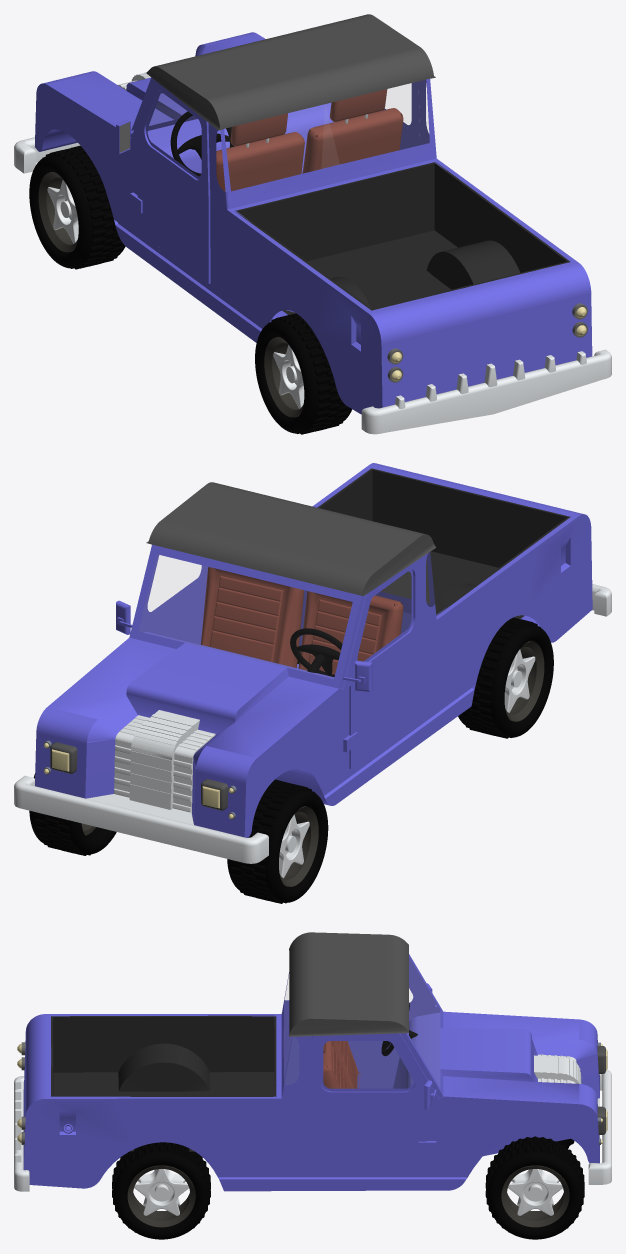
The model's file is truck.glb.
3 views of the same model, one above another, from view 1: azimuth 30°, elevation 25°; view 2: azimuth 150°, elevation 25°; view 3: azimuth 270°, elevation 25° (orthographic). The views are drawn at different scales.
Visible parts, largest first — view 1: Cube_4, back, sagf, Extrude_3, Cube_2_2, sewpar_back, Tube_1_2, Tube_1, Cloner_2_2, Cube_3_2, Cloner_2, glass (+7 smaller); view 2: Cube_4, sagf, back, Cube_2_2, Extrude_3, sewpar_front, Tube_1_2, motor, Cylinder_5, Tube_1, Cloner_2_2, glass (+9 smaller); view 3: Cube_4, back, Extrude_3, sagf, Tube_1_2, Tube_1, Extrude_2, Extrude, Cloner_2_2, Cube_2_2, Tube_2, Tube (+6 smaller).
Part boxes in pixels (<box>): Cube_4: <box>35,32,592,414</box>; back: <box>235,162,570,314</box>; sagf: <box>146,14,435,130</box>; Extrude_3: <box>130,79,419,283</box>; Cube_2_2: <box>216,108,403,191</box>; sewpar_back: <box>361,349,611,434</box>; Tube_1_2: <box>29,153,125,268</box>; Tube_1: <box>255,319,352,433</box>; Cloner_2_2: <box>42,145,123,269</box>; Cube_3_2: <box>230,89,387,146</box>; Cloner_2: <box>268,313,350,434</box>; glass: <box>149,84,428,167</box>; Cube_4: <box>35,463,592,837</box>; sagf: <box>146,482,435,595</box>; back: <box>299,468,570,652</box>; Cube_2_2: <box>200,567,403,674</box>; Extrude_3: <box>138,554,422,768</box>; sewpar_front: <box>14,775,268,863</box>; Tube_1_2: <box>29,773,328,902</box>; motor: <box>129,710,199,809</box>; Cylinder_5: <box>86,715,215,824</box>; Tube_1: <box>297,624,553,737</box>; Cloner_2_2: <box>34,779,314,903</box>; glass: <box>148,555,429,611</box>; Cube_4: <box>23,954,599,1191</box>; back: <box>51,1015,276,1151</box>; Extrude_3: <box>309,964,439,1170</box>; sagf: <box>289,932,408,1036</box>; Tube_1_2: <box>487,1137,583,1239</box>; Tube_1: <box>113,1143,209,1239</box>; Extrude_2: <box>508,1169,562,1215</box>; Extrude: <box>134,1169,188,1215</box>; Cloner_2_2: <box>485,1136,584,1235</box>; Cube_2_2: <box>323,1041,360,1088</box>; Tube_2: <box>501,1165,569,1227</box>; Tube: <box>127,1165,195,1227</box>.
Bounding box in the file's own units: 2.88 × 2.83 × 7.05.
